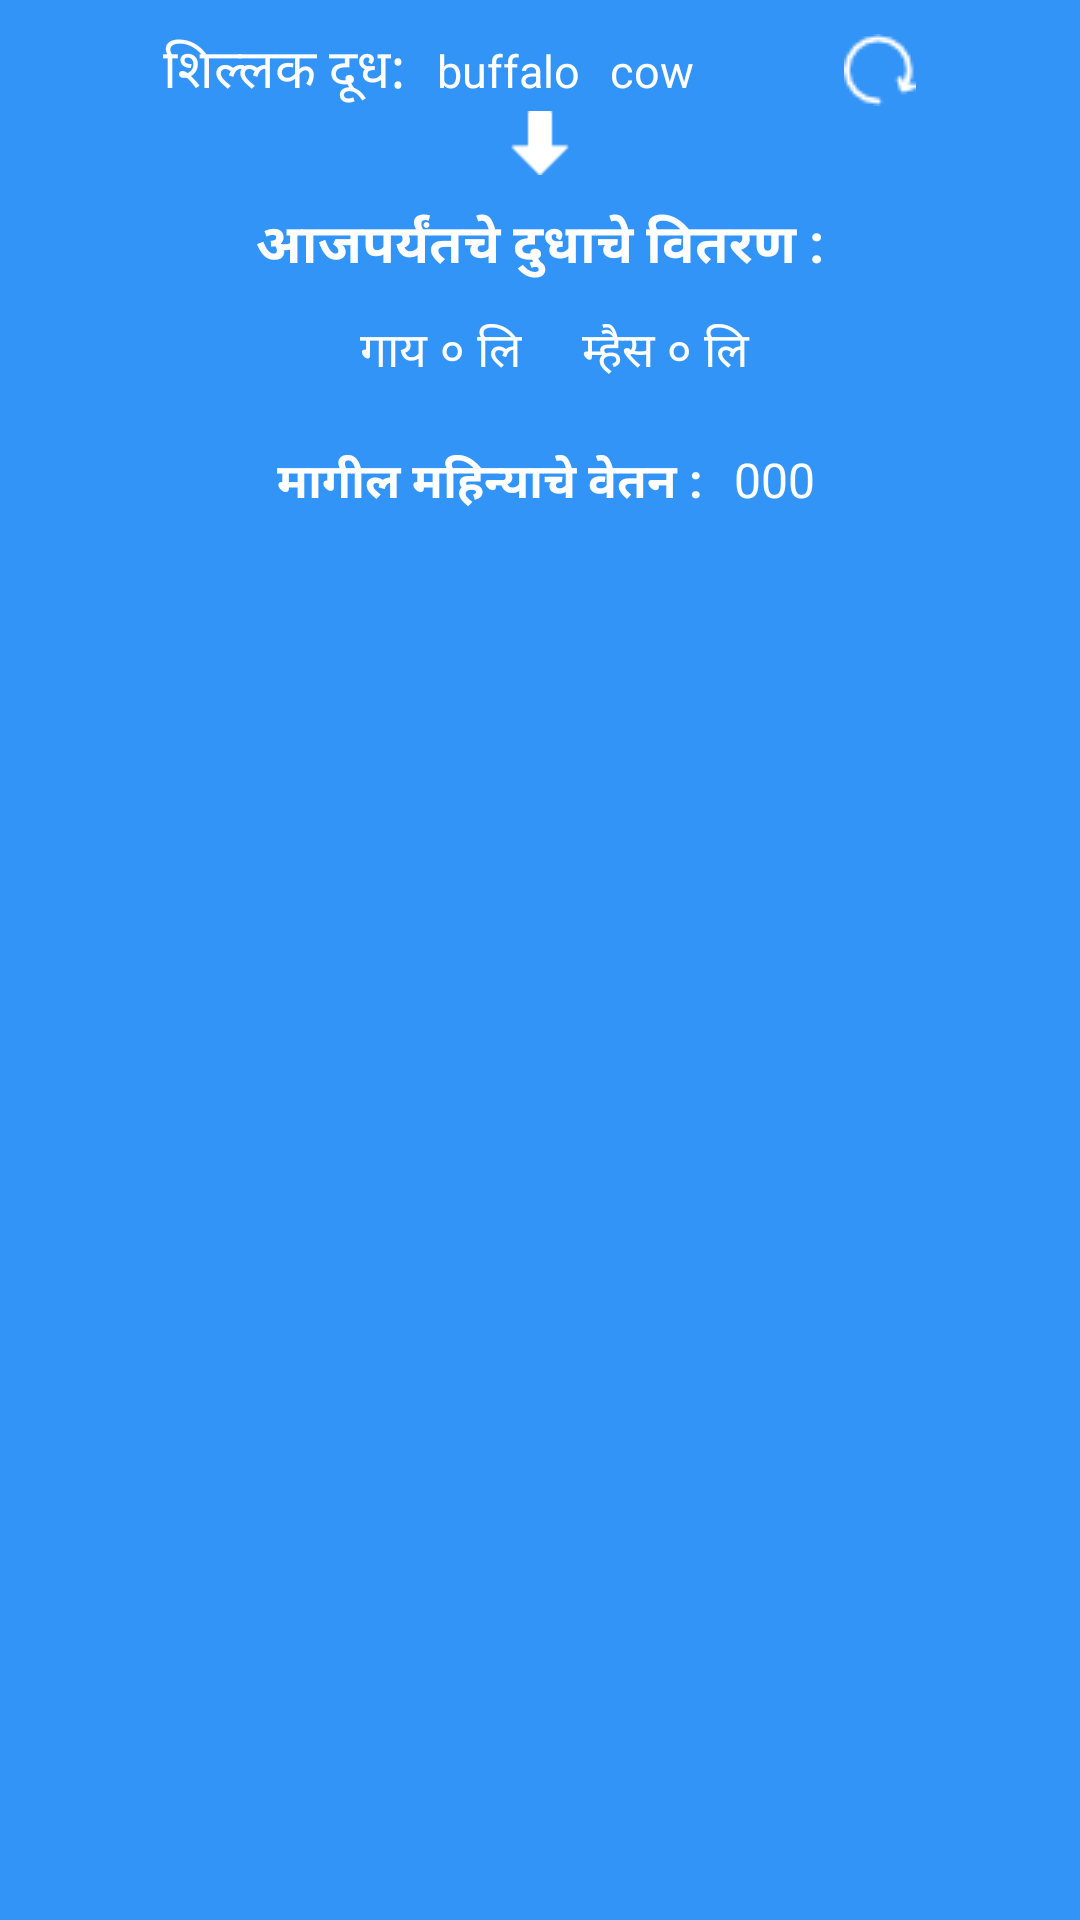

Named icons in this screenshot (1080 x 1920) and their centers, (x,y):
downarrow: (540,143)
refresh: (880,70)
